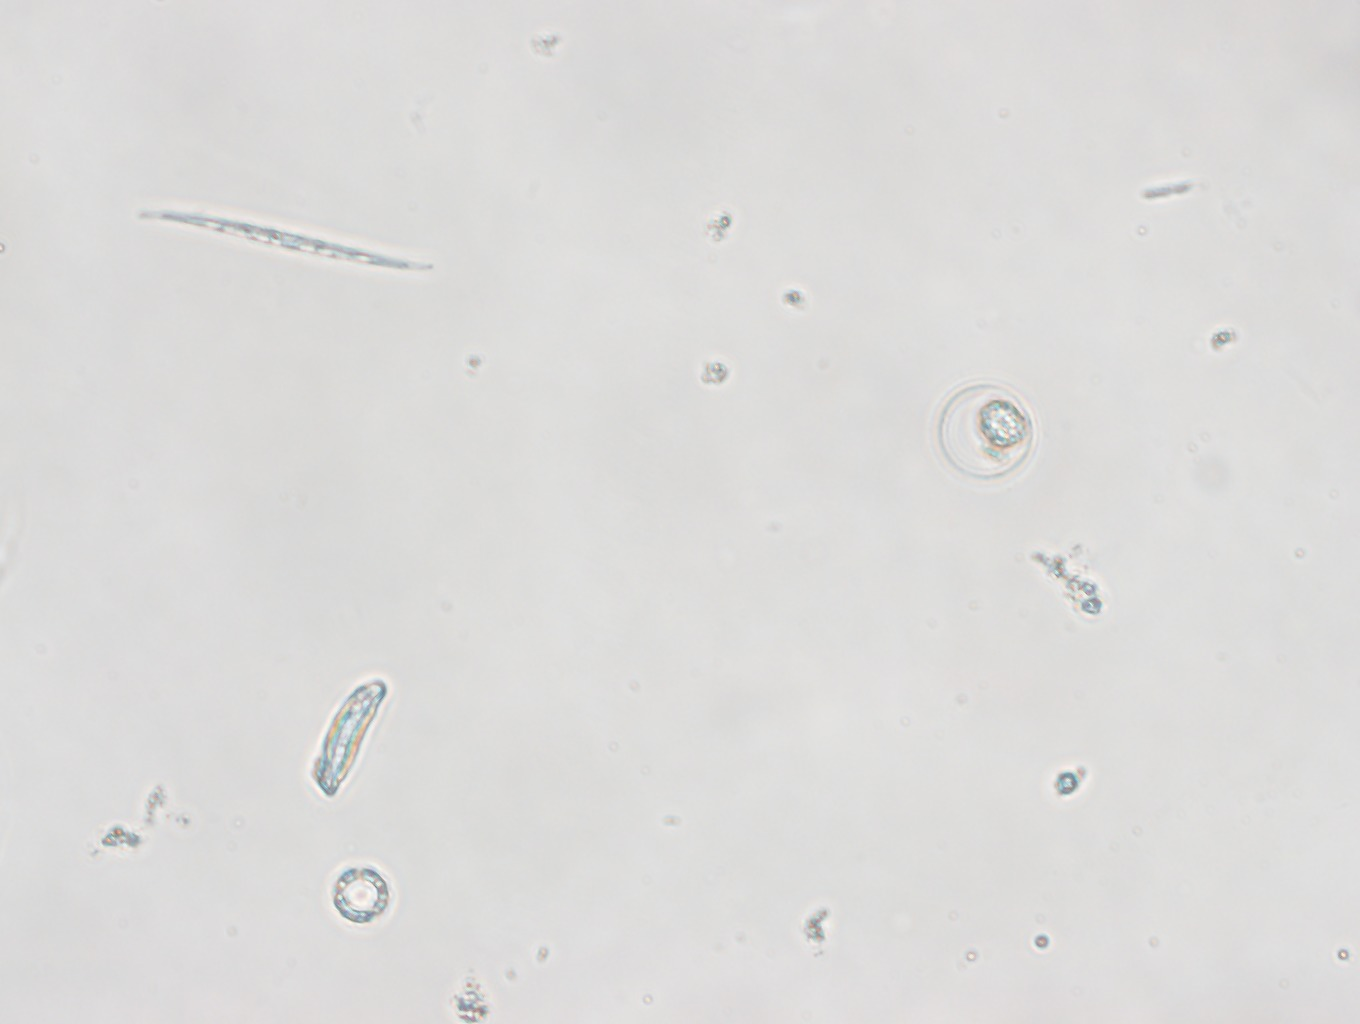pleurosigma pelagicum: (128, 191, 436, 305)
